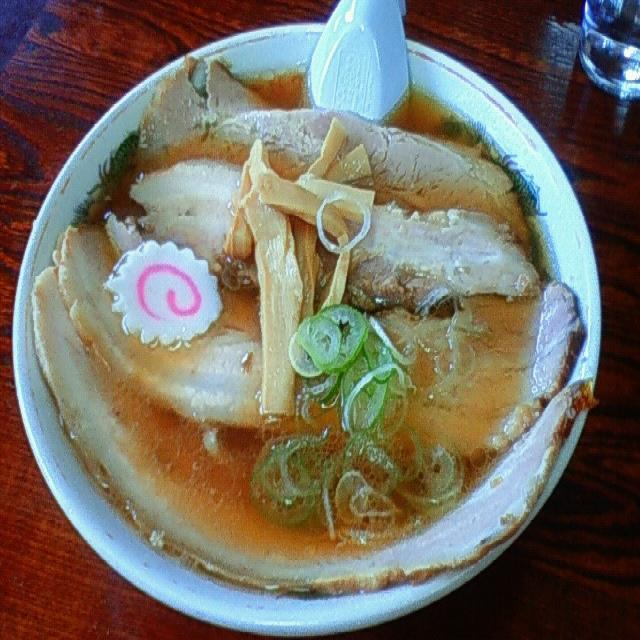面条主食: (4, 10, 604, 640)
